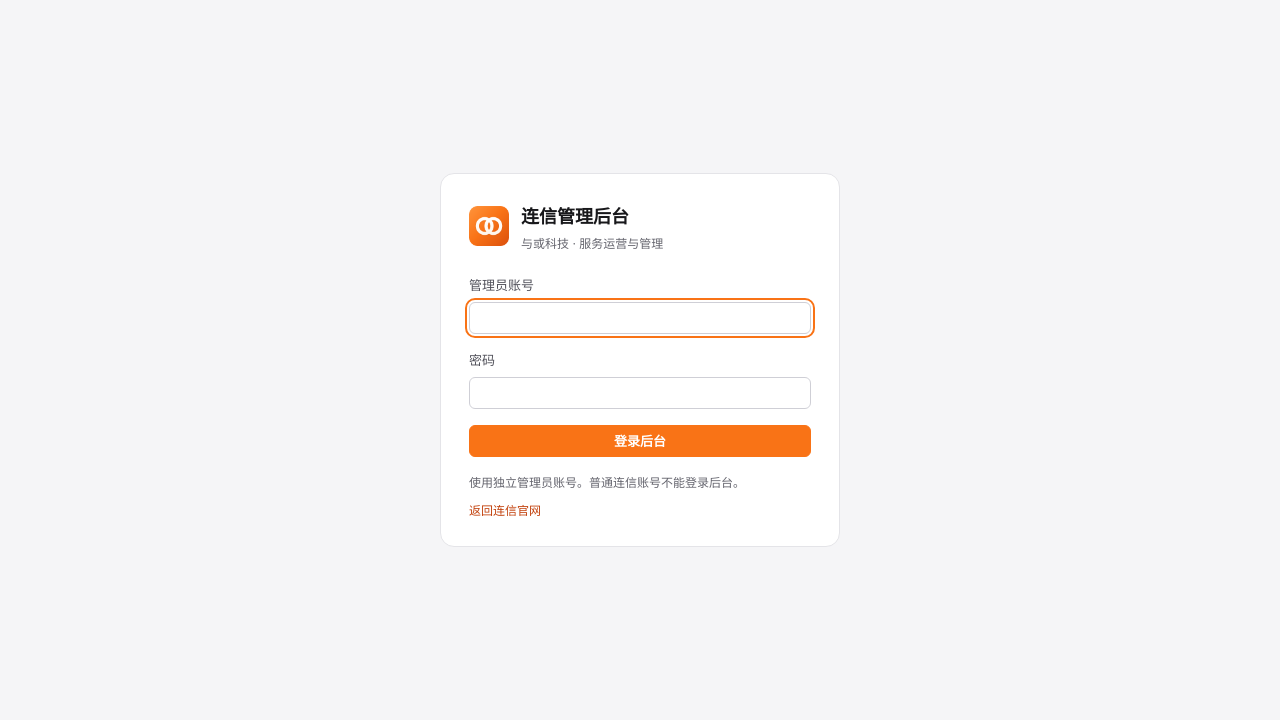
Scenario: login › shows the sign-in form when there is no session, then the overview after a good login
The image size is (1280, 720).
Step 1. Type "owner" into the field labelled "管理员账号" → coordinates (640, 318), box x1=469 y1=302 x2=811 y2=334
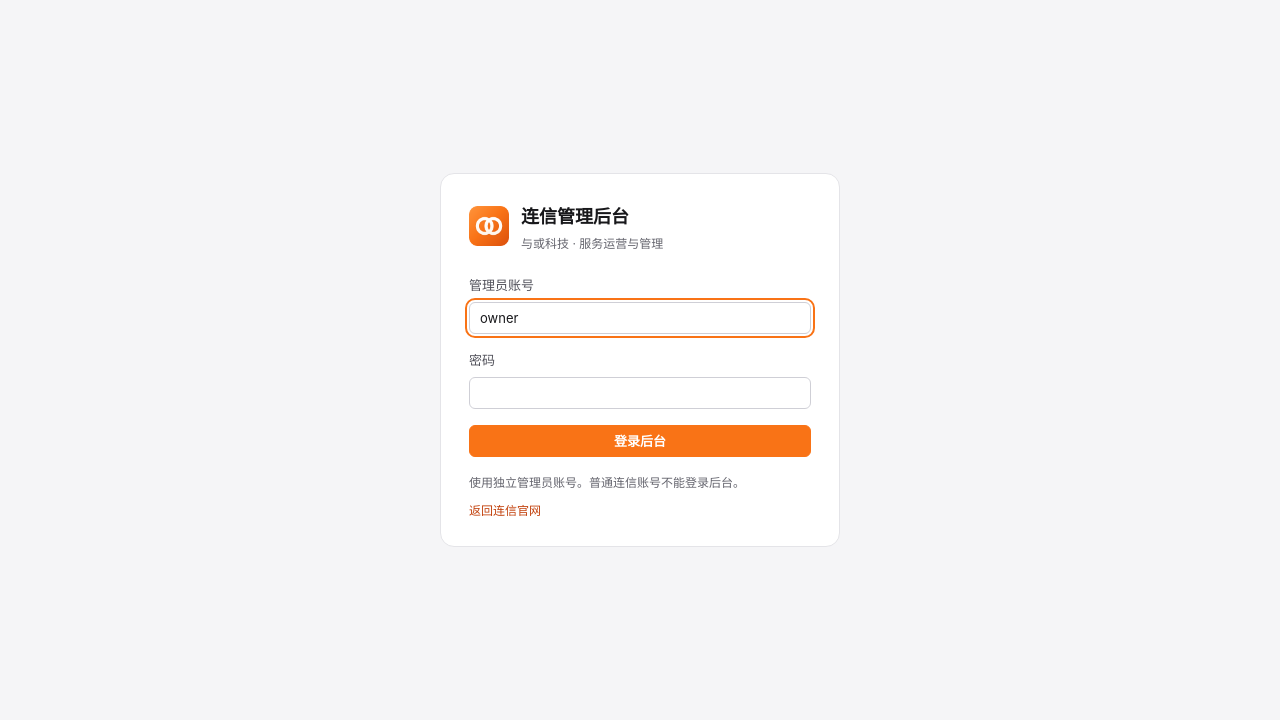
Step 2. Type "a-long-password" into the password field labelled "密码" → coordinates (640, 393), box x1=469 y1=377 x2=811 y2=409
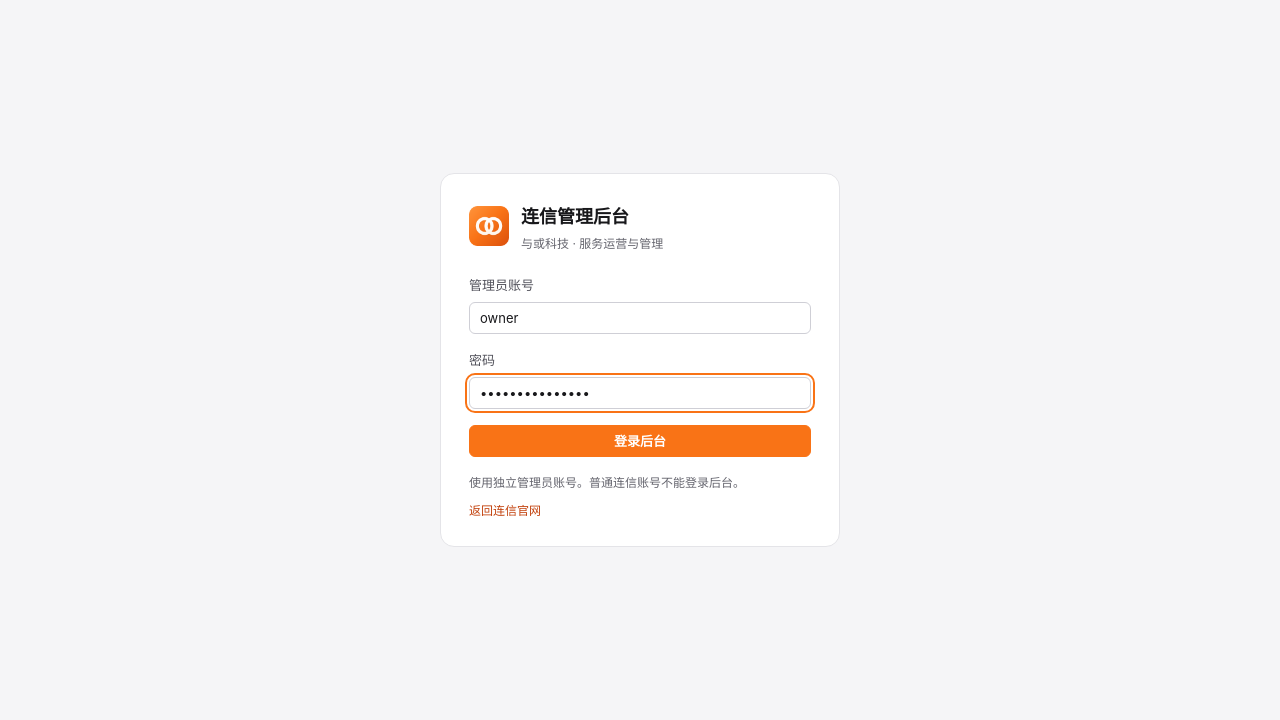
Step 3. Click the button "登录后台" → coordinates (640, 441), box x1=469 y1=425 x2=811 y2=457
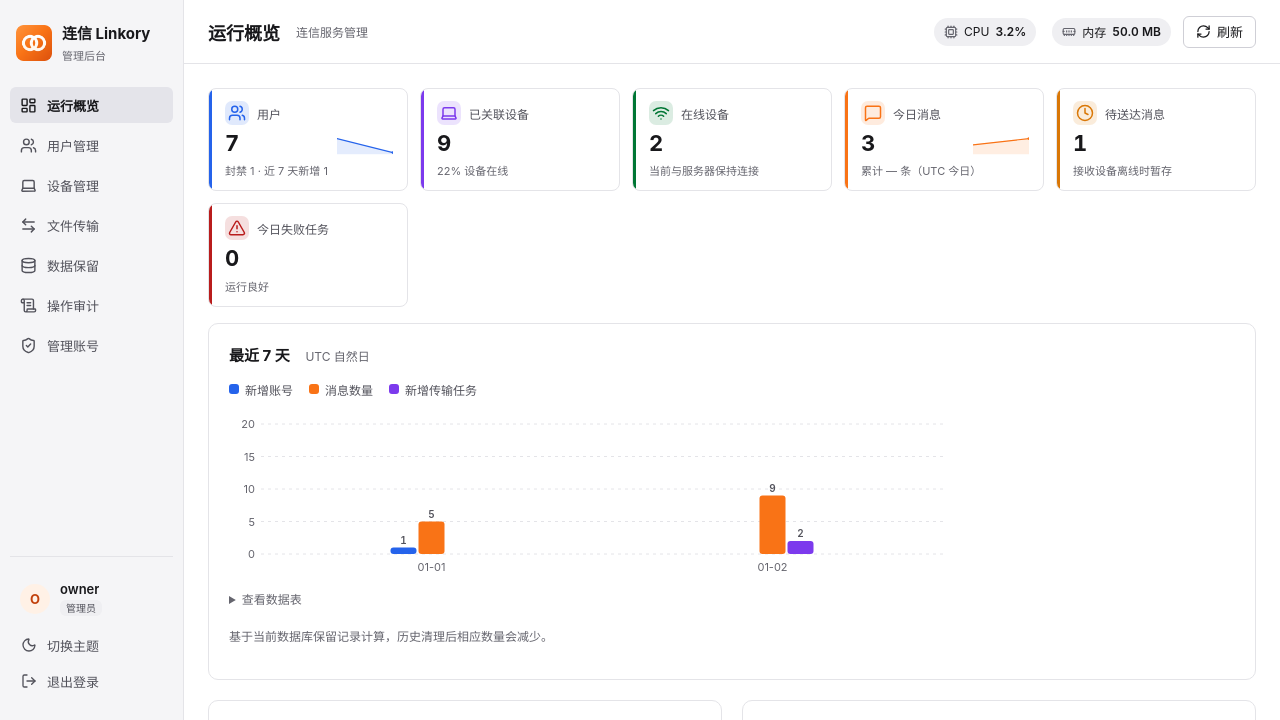
Check: the heading "运行概览" is shown, box x1=208 y1=18 x2=280 y2=44
Check: the text "7" is shown, box x1=225 y1=131 x2=239 y2=156
